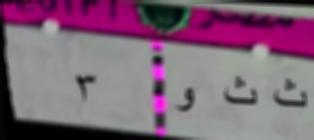3: (73, 67, 98, 105)
thaa: (221, 72, 260, 108), (271, 76, 308, 113)
waw: (169, 80, 198, 119)
